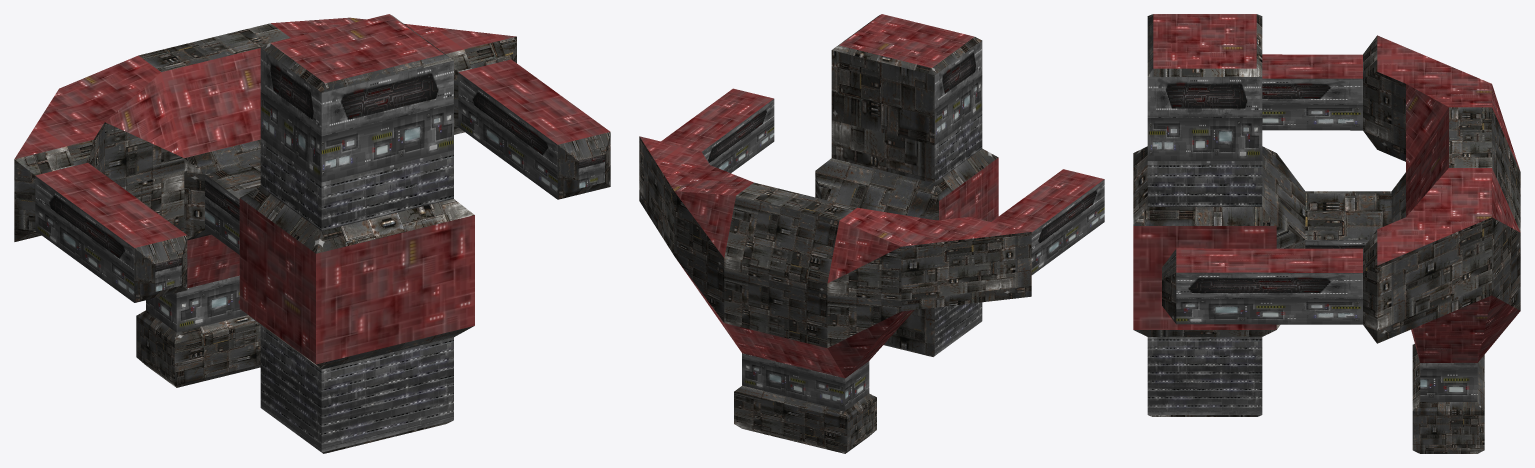
3 renders of one model, left to right at view 1: azimuth 30°, elevation 25°; view 2: azimuth 150°, elevation 25°; view 3: azimuth 270°, elevation 25°, orthographic. The views are drawn at different scales.
Parts seen in each view (by area): view 1: part03, B_fab01, part04, part01, part02, side02, top01, part05, part08, part06, part07, part09 (+2 smaller); view 2: part03, side02, part08, top02, top01, B_fab01, side01, part05, part02, part01, part06, part07 (+1 smaller); view 3: part03, part01, B_fab01, part07, side01, part04, part02, top01, part08, part05, part09, side02 (+1 smaller).
Boxes of the visible parts, x1,y1,x2,y2 form: part03: (260, 14, 453, 230); B_fab01: (239, 186, 474, 369); part04: (260, 325, 453, 453); part01: (458, 59, 610, 199); part02: (35, 162, 187, 302); side02: (59, 55, 204, 239); top01: (138, 23, 290, 174); part05: (136, 310, 260, 387); part08: (14, 89, 104, 241); part06: (146, 275, 247, 332); part07: (350, 17, 516, 134); part09: (205, 161, 260, 254); part03: (831, 14, 982, 183); side02: (827, 207, 936, 377); part08: (901, 217, 1031, 311); top02: (724, 258, 844, 378); top01: (724, 182, 856, 283); B_fab01: (815, 148, 998, 221); side01: (674, 165, 753, 350); part05: (734, 385, 876, 453); part02: (991, 169, 1104, 274); part01: (661, 88, 774, 173); part06: (742, 353, 869, 410); part07: (639, 136, 709, 255); part03: (1147, 14, 1262, 206); part01: (1162, 248, 1362, 324); B_fab01: (1133, 146, 1305, 336); part07: (1363, 217, 1491, 343); side01: (1406, 168, 1520, 362); part04: (1147, 337, 1262, 416); part02: (1262, 54, 1362, 130); top01: (1391, 107, 1520, 231); part08: (1363, 35, 1491, 161); part05: (1412, 344, 1484, 453); part09: (1305, 191, 1391, 248); side02: (1406, 84, 1519, 171).
Size of the model in its own units: 54.66 by 42.29 by 38.84.
3 materials, 3 textured.
